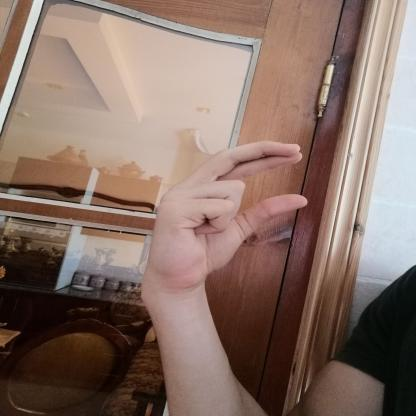DHELL: (135, 132, 319, 296)
